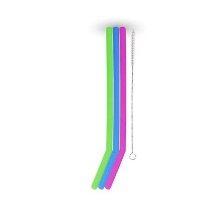drinking_straw: (88, 23, 129, 193)
